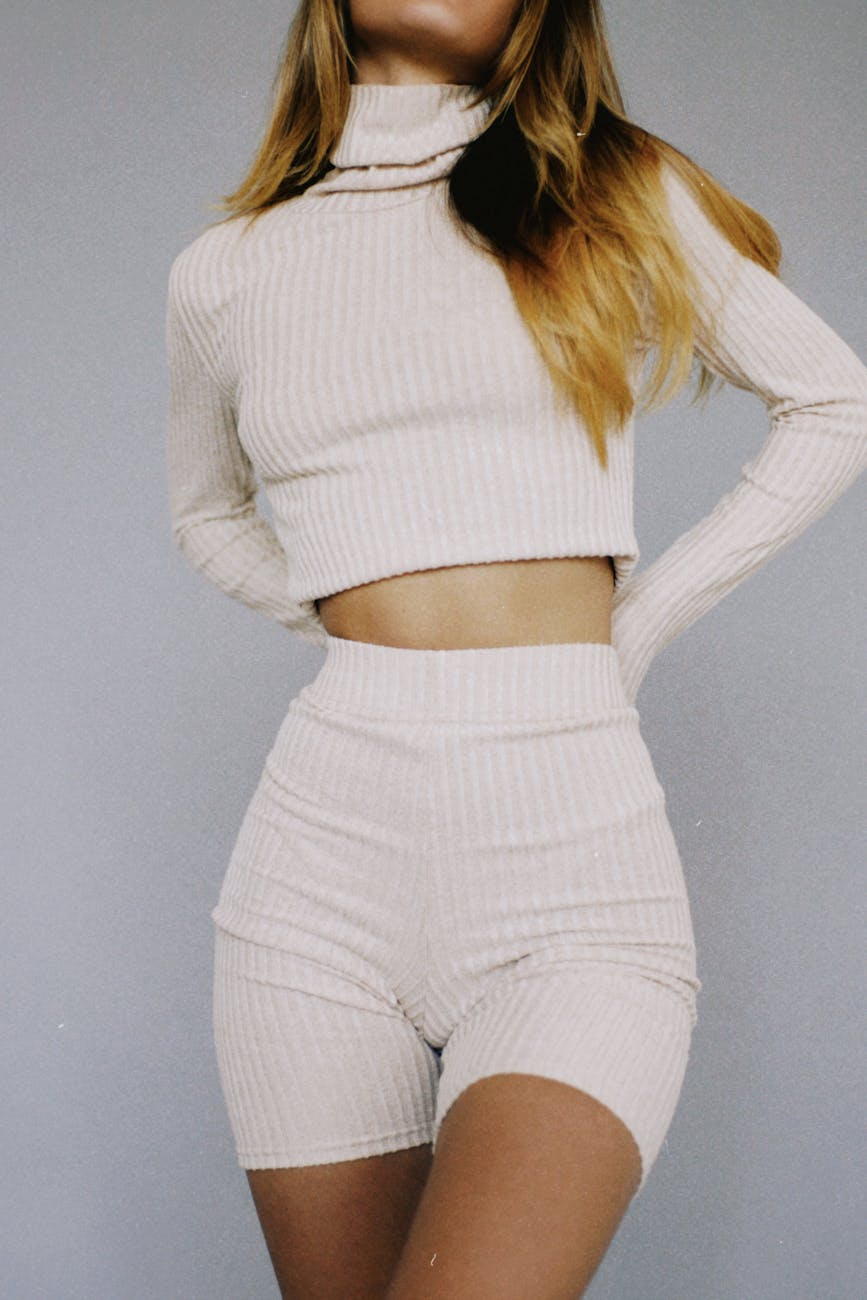crop_top: (159, 121, 762, 607)
shorts: (190, 621, 735, 1168)
